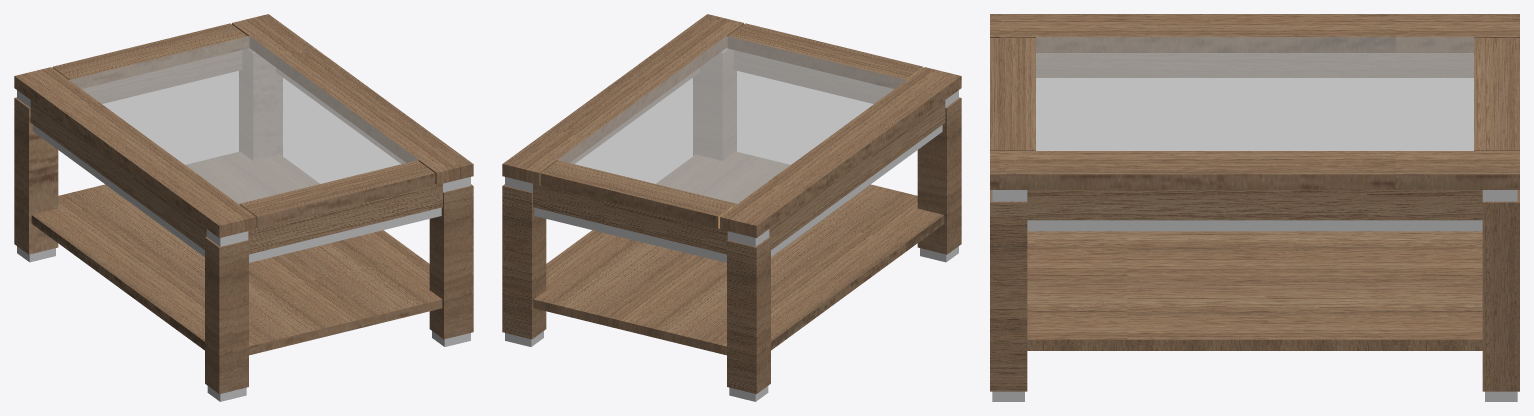
The model's file is mesinha.glb.
The picture shows the model from 3 angles, left to right: view 1: azimuth 30°, elevation 25°; view 2: azimuth 150°, elevation 25°; view 3: azimuth 270°, elevation 25°; orthographic projection. The views are drawn at different scales.
Parts seen in each view (by area): view 1: Mesinha; view 2: Mesinha; view 3: Mesinha.
Part boxes in pixels (bbox=[...]): Mesinha: bbox=[14, 14, 473, 401]; Mesinha: bbox=[502, 14, 961, 401]; Mesinha: bbox=[990, 14, 1519, 401].
Bounding box in the file's own units: 0.5378 × 0.358 × 0.7513.
7 materials, 3 textured.
